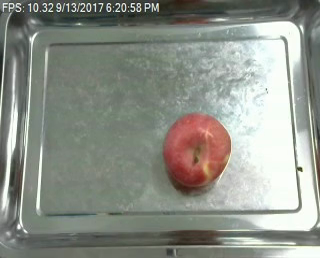Apple: (159, 111, 232, 190)
